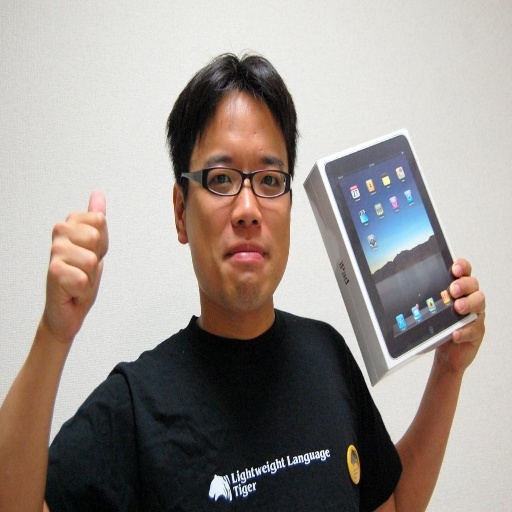hand: (37, 191, 104, 304), (435, 258, 484, 371)
